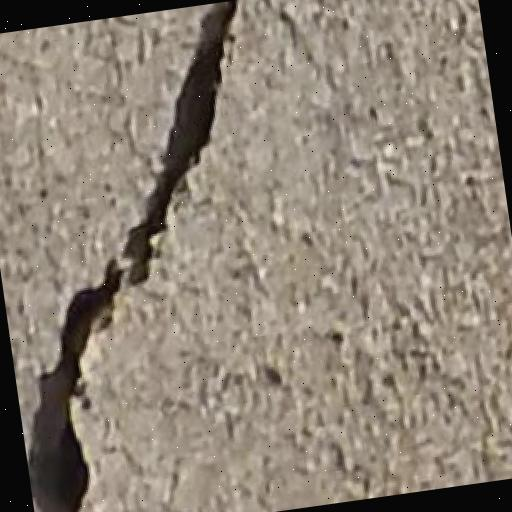spalling: (24, 13, 255, 512)
